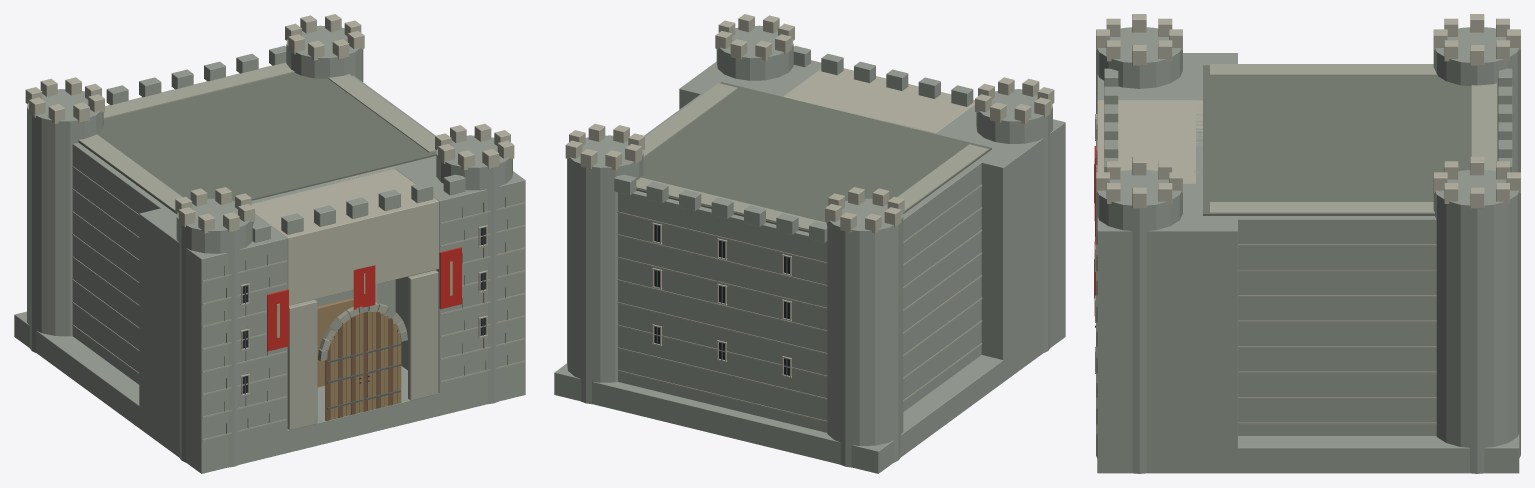
The model's file is citadel_keep.glb.
The picture shows the model from 3 angles, left to right: view 1: azimuth 30°, elevation 25°; view 2: azimuth 150°, elevation 25°; view 3: azimuth 270°, elevation 25°; orthographic projection. The views are drawn at different scales.
Parts seen in each view (by area): view 1: citadel_keep; view 2: citadel_keep; view 3: citadel_keep.
Part boxes in pixels (box(x1,y1,x2,y2)): citadel_keep: box(14, 14, 525, 473); citadel_keep: box(554, 14, 1065, 473); citadel_keep: box(1094, 14, 1520, 473).
Bounding box in the file's own units: 30.2 × 22 × 30.33.
